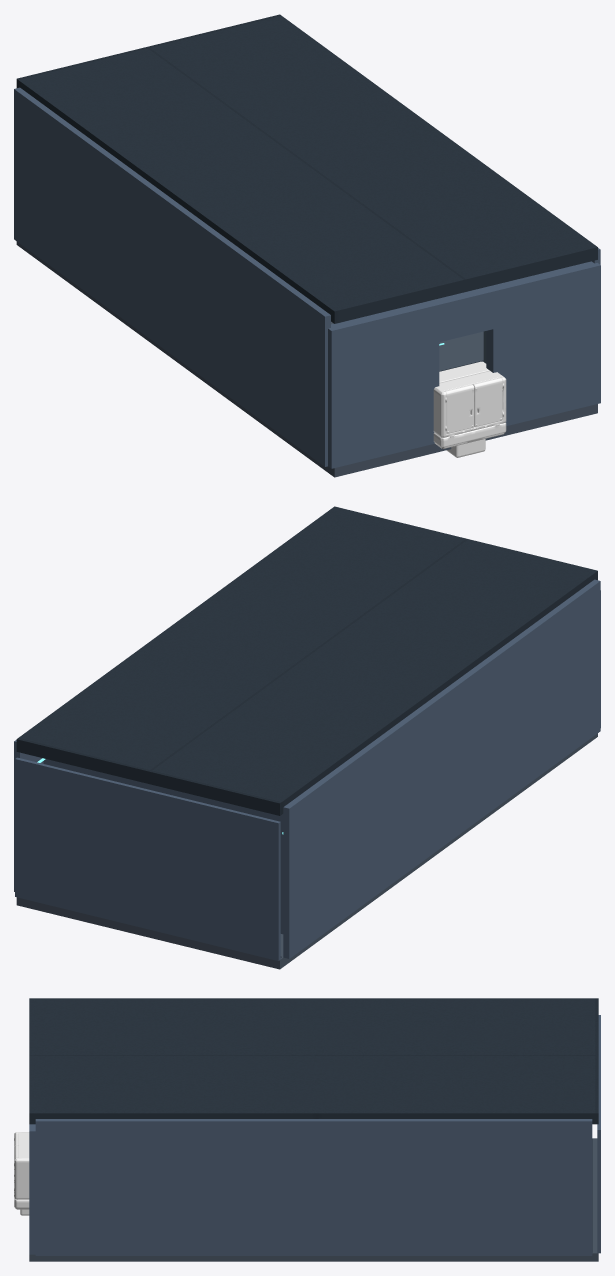
Rendered from Security-Godot-Art.glb.
3 views of the same model, one above another, from view 1: azimuth 30°, elevation 25°; view 2: azimuth 150°, elevation 25°; view 3: azimuth 270°, elevation 25° (orthographic). The views are drawn at different scales.
Parts seen in each view (by area): view 1: _MeshInstance3D_63, _MeshInstance3D_3, _MeshInstance3D_59, _MeshInstance3D_60, SixMeasuredSecurityCoverCabinets2, _MeshInstance3D_2, _MeshInstance3D_62; view 2: _MeshInstance3D_63, _MeshInstance3D_3, _MeshInstance3D_58, _MeshInstance3D_2, _MeshInstance3D_156, _MeshInstance3D_157; view 3: _MeshInstance3D_28, _MeshInstance3D_63, _MeshInstance3D_2, SixMeasuredSecurityCoverCabinets2, _MeshInstance3D_60, _MeshInstance3D_58.
Boxes of the visible parts, box(x1,y1,x2,y2) form: _MeshInstance3D_63: box(16, 14, 597, 323); _MeshInstance3D_3: box(14, 87, 330, 466); _MeshInstance3D_59: box(328, 300, 439, 468); _MeshInstance3D_60: box(486, 261, 600, 425); SixMeasuredSecurityCoverCabinets2: box(433, 361, 506, 448); _MeshInstance3D_2: box(16, 241, 597, 477); _MeshInstance3D_62: box(433, 287, 493, 342); _MeshInstance3D_63: box(16, 506, 597, 815); _MeshInstance3D_3: box(283, 579, 600, 958); _MeshInstance3D_58: box(15, 757, 280, 960); _MeshInstance3D_2: box(16, 733, 597, 969); _MeshInstance3D_156: box(202, 797, 283, 934); _MeshInstance3D_157: box(43, 759, 148, 789); _MeshInstance3D_28: box(35, 1119, 592, 1255); _MeshInstance3D_63: box(29, 998, 598, 1124); _MeshInstance3D_2: box(29, 1138, 598, 1261); SixMeasuredSecurityCoverCabinets2: box(14, 1132, 29, 1209); _MeshInstance3D_60: box(29, 1124, 35, 1254); _MeshInstance3D_58: box(597, 1015, 600, 1253).
Bounding box in the file's own units: 9.2 × 5.5 × 18.98.
67 materials, 2 textured.
